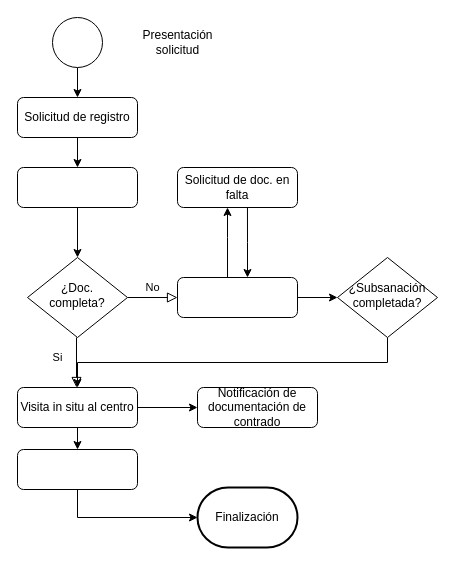
Image size: 455x566. Some labels were removed from this diagram. The shapes that lost their labels are listed below. From the top down, each one's centre as x and y in pixels, then its label:
At point (77, 187): "Comprobación de documentación".
At point (237, 297): "Subsanación".
At point (77, 469): "Acreditación del nuevo usuario".
